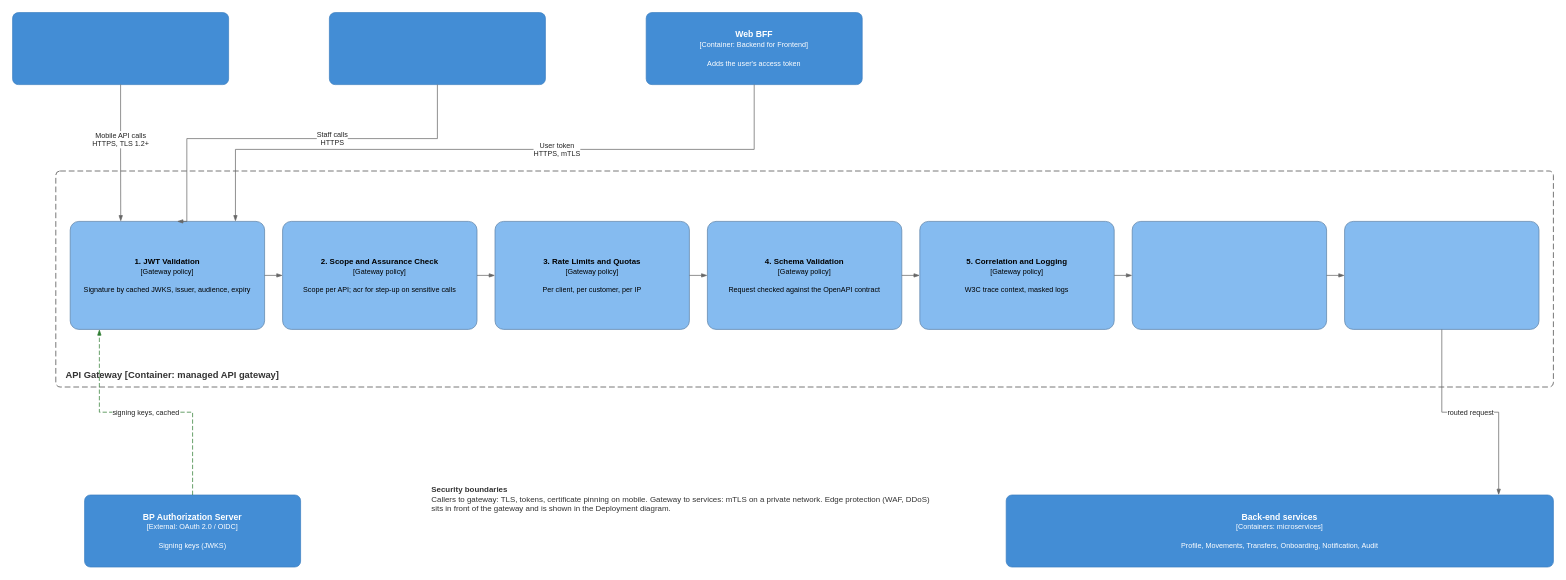
Some shapes in this 1566 by 580 pixel diagram are drawn without their labels. Here are the shapes that lost their labels. From the top down, the box of each, then its label:
(12, 12, 229, 85): Mobile App [Container: Flutter] Holds tokens in Keychain / Keystore
(329, 12, 545, 85): Back-Office Portal [Container: Angular web app] Staff calls with SSO token
(1131, 221, 1327, 329): 6. Routing and Versioning [Gateway policy] Path routing, /v1, canary
(1344, 221, 1539, 329): 7. Backend mTLS [Gateway policy] Client certificate to services, private network
